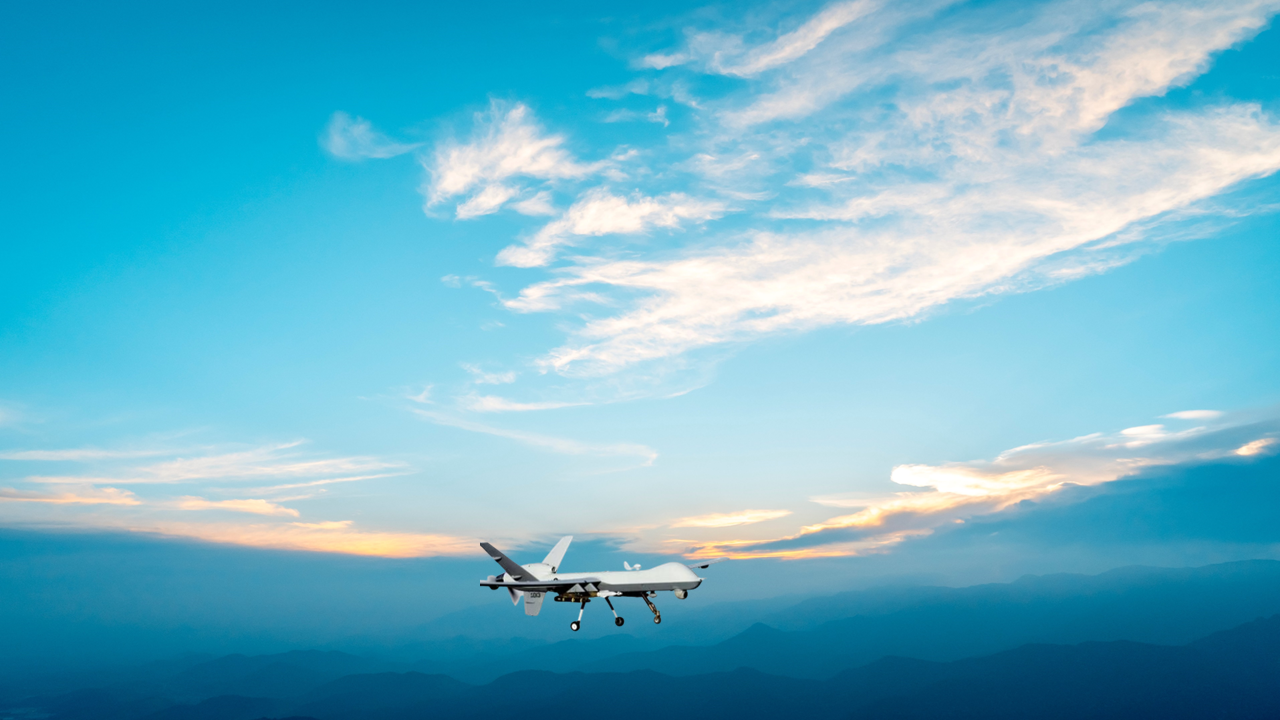military drone: (479, 535, 729, 631)
